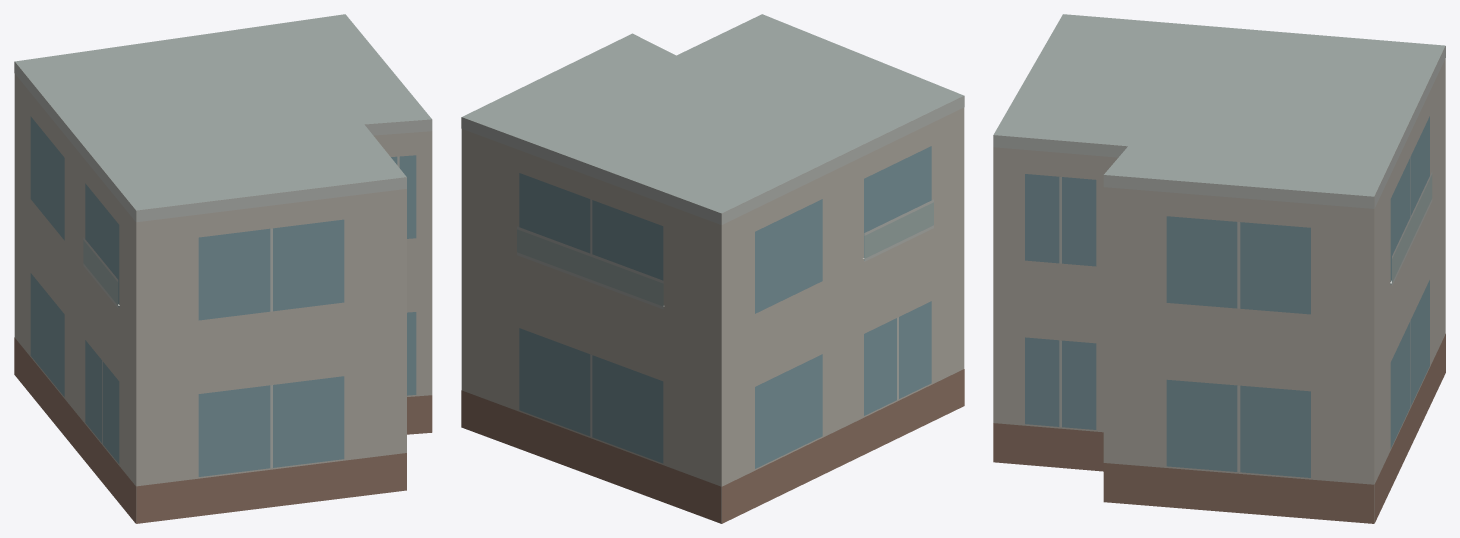
Rendered from survey-upis-32617315.glb.
3 renders of one model, left to right at view 1: azimuth 30°, elevation 25°; view 2: azimuth 150°, elevation 25°; view 3: azimuth 270°, elevation 25°, orthographic. The views are drawn at different scales.
Parts seen in each view (by area): view 1: survey-upis-32617315.tmp; view 2: survey-upis-32617315.tmp; view 3: survey-upis-32617315.tmp.
Boxes of the visible parts, <box> form: survey-upis-32617315.tmp: <box>14,14,432,523</box>; survey-upis-32617315.tmp: <box>461,14,964,523</box>; survey-upis-32617315.tmp: <box>993,14,1445,523</box>.
Bounding box in the file's own units: 7.79 × 6.5 × 8.16.
